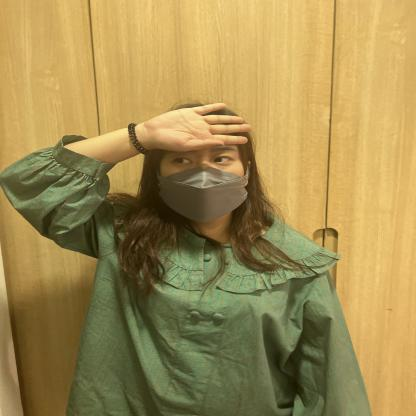Sick: (27, 88, 303, 204)
